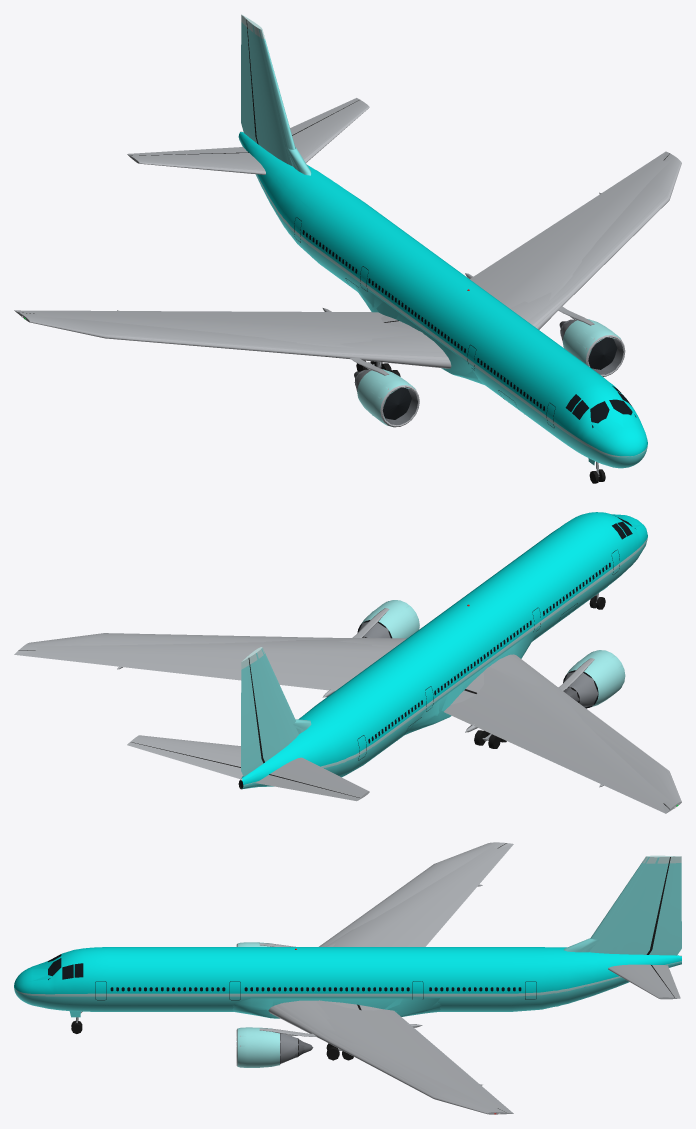
The model's file is ac-widebody.glb.
3 renders of one model, top to bottom at view 1: azimuth 30°, elevation 25°; view 2: azimuth 150°, elevation 25°; view 3: azimuth 270°, elevation 25°, orthographic. The views are drawn at different scales.
Parts seen in each view (by area): view 1: lod0_body, lod2_body, lod1_body; view 2: lod0_body, lod2_body, lod1_body, lod1_gear; view 3: lod0_body, lod2_body, lod1_body.
Part boxes in pixels (<box>): lod0_body: <box>15,14,681,468</box>; lod2_body: <box>14,29,673,448</box>; lod1_body: <box>15,24,681,467</box>; lod0_body: <box>14,512,681,813</box>; lod2_body: <box>14,514,681,813</box>; lod1_body: <box>21,526,681,812</box>; lod1_gear: <box>474,593,605,748</box>; lod0_body: <box>14,842,681,1114</box>; lod2_body: <box>28,842,681,1114</box>; lod1_body: <box>17,842,680,1114</box>.
Bounding box in the file's own units: 61.02 × 18.5 × 63.71.
